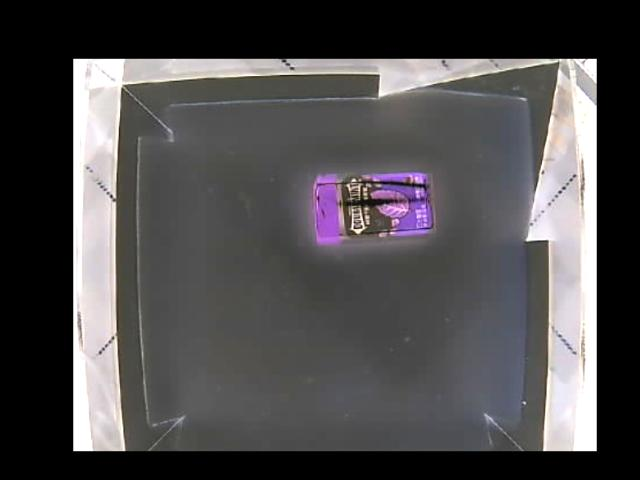Bottle: (312, 169, 435, 245)
